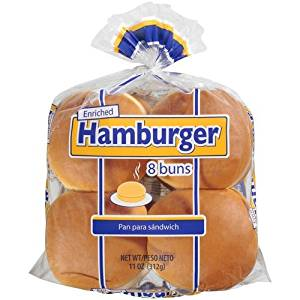hamburger_buns: (43, 81, 259, 300)
